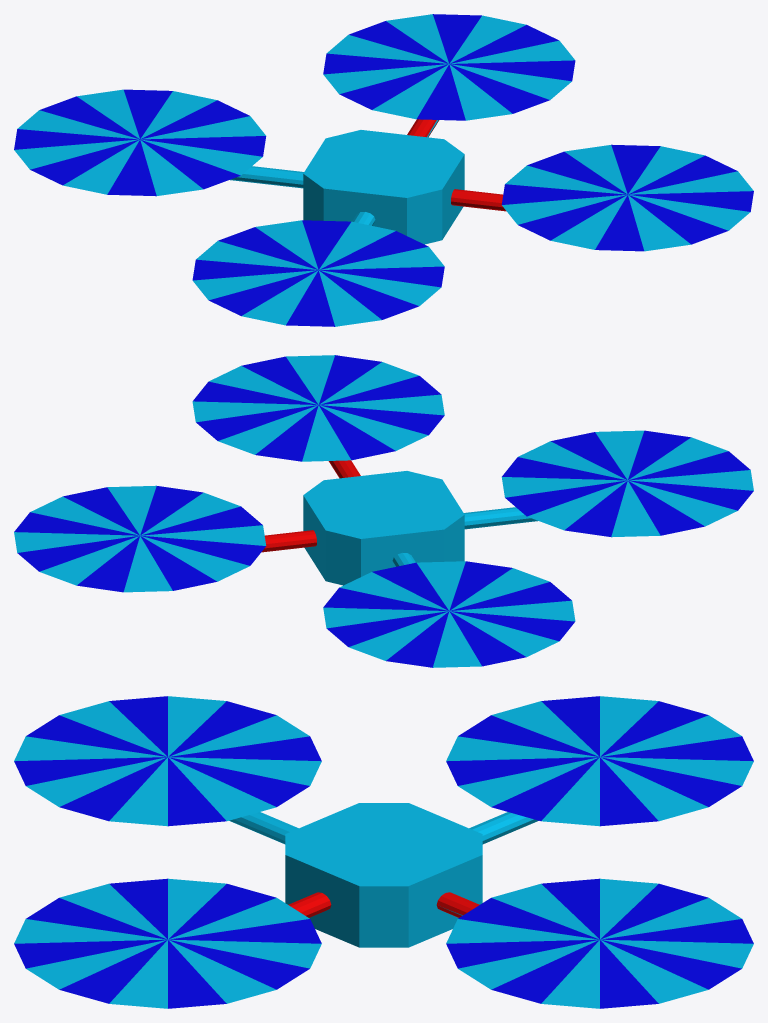
Rendered from quadcopterx.dae.
3 renders of one model, top to bottom at view 1: azimuth 30°, elevation 25°; view 2: azimuth 150°, elevation 25°; view 3: azimuth 270°, elevation 25°, orthographic. The views are drawn at different scales.
Visible parts, largest first — view 1: QuadrotorMainBody; view 2: QuadrotorMainBody; view 3: QuadrotorMainBody.
Part boxes in pixels (x1,y1,x2,y2): QuadrotorMainBody: (14,14,753,326); QuadrotorMainBody: (14,355,753,667); QuadrotorMainBody: (14,696,753,1008).
Bounding box in the file's own units: 1 × 1 × 0.0917.
